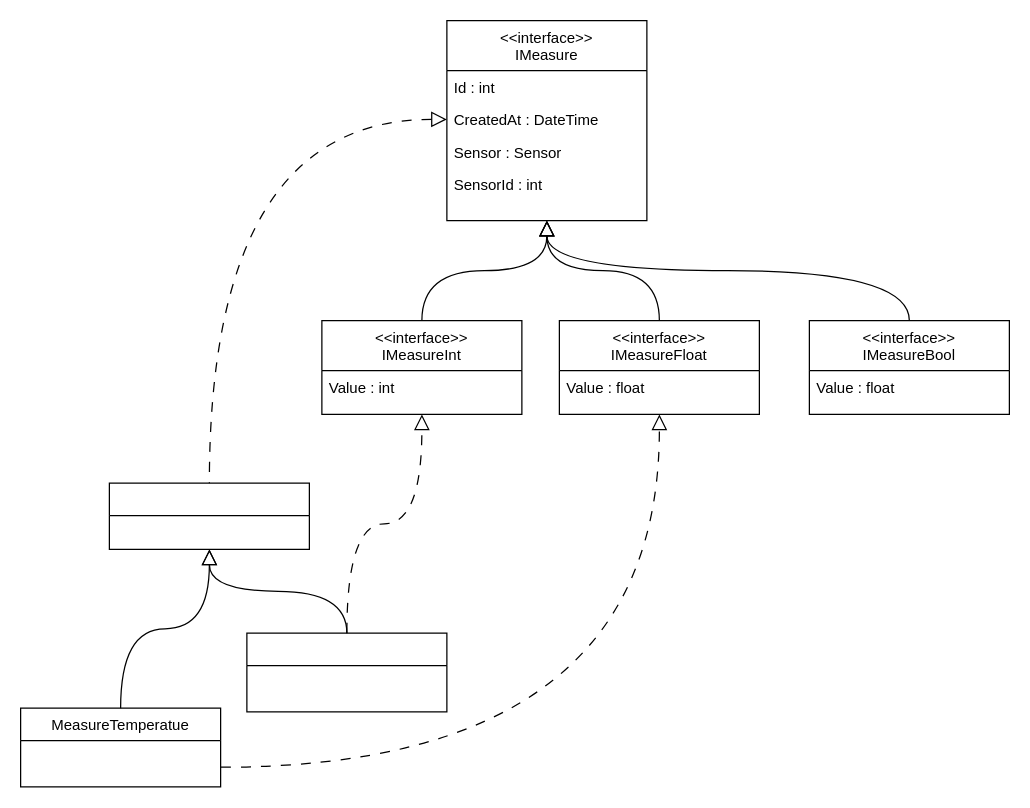
Image size: 1030x808. Some labels were removed from this diagram. Each missing label, with the centre of its shape:
Measure: the point at 208,515
MeasurePercentage: the point at 346,672
